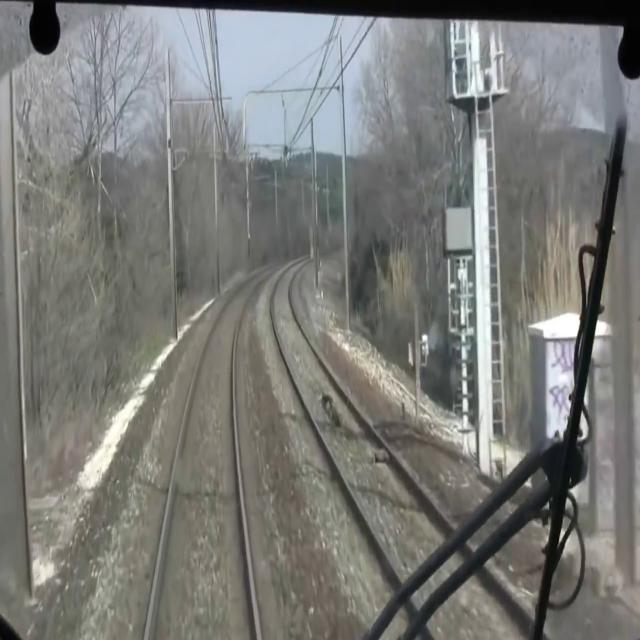rail-track: (273, 257, 448, 574), (148, 260, 289, 639)
